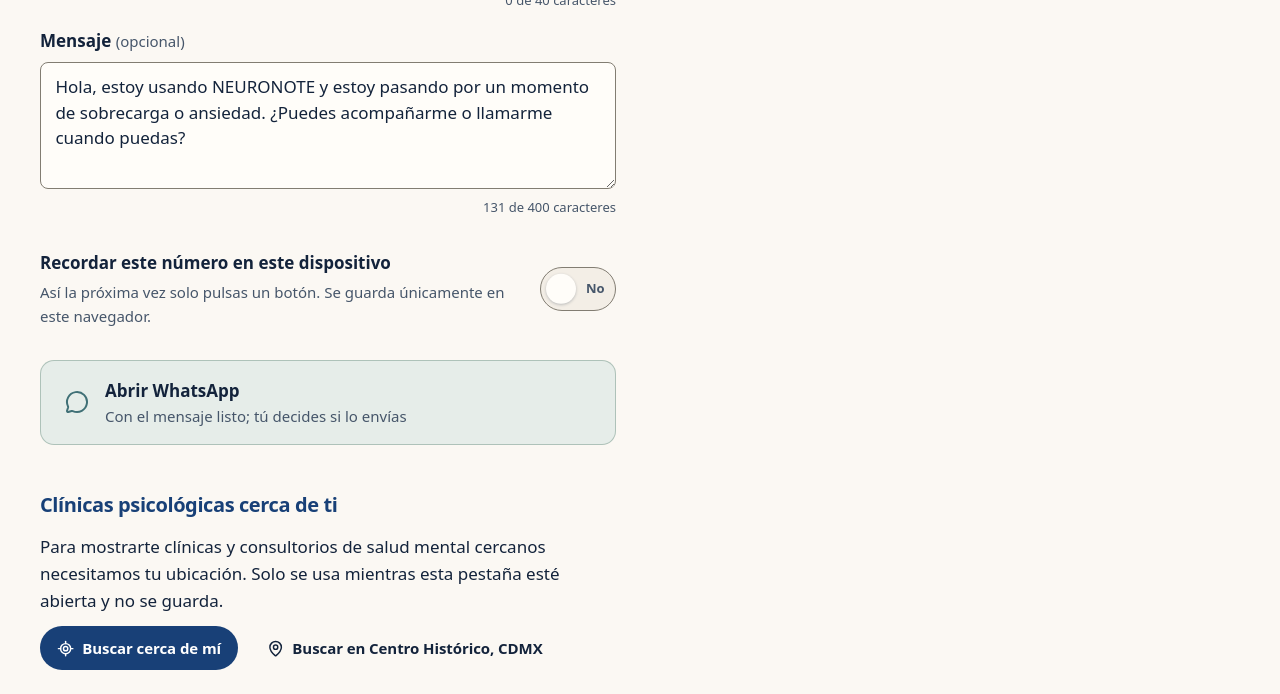
Scenario: SOS › no abre WhatsApp si falta el número
(page scrolled)
Click the link "Abrir WhatsApp Con el mensaje listo; tú decides si lo envías": (172, 390) [40, 360, 616, 445]
(page scrolled)
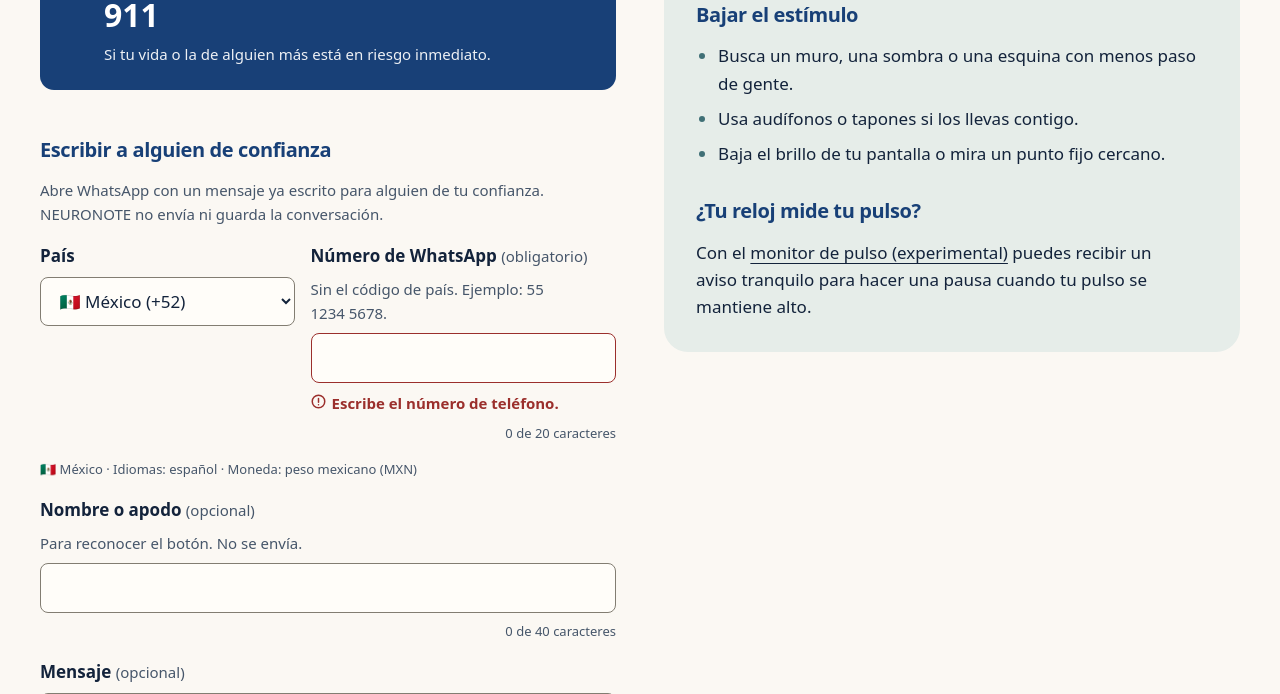
expect the text "Escribe el número de teléfono." is shown: met, box [332, 393, 559, 413]
